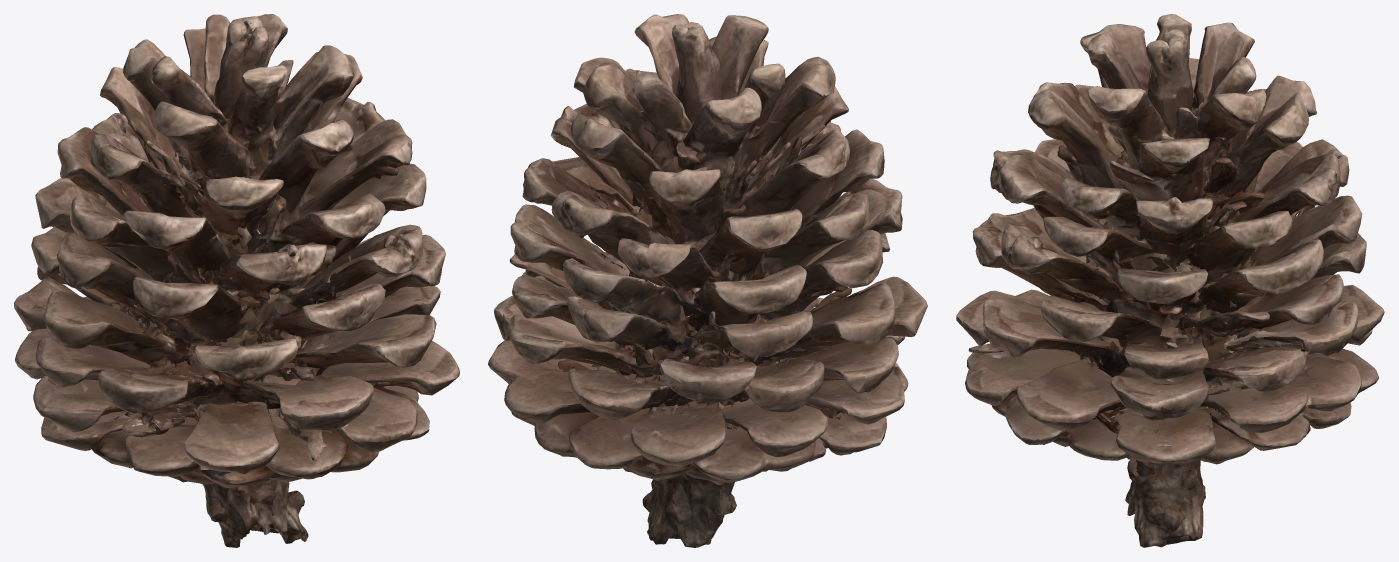
The model's file is pine-cone-v12-lod.glb.
3 views of the same model, side by side, from view 1: azimuth 30°, elevation 25°; view 2: azimuth 150°, elevation 25°; view 3: azimuth 270°, elevation 25° (orthographic). The views are drawn at different scales.
Parts seen in each view (by area): view 1: geometry_0; view 2: geometry_0; view 3: geometry_0.
Boxes of the visible parts, left/top/right/bottom form: geometry_0: left=14, top=14, right=459, bottom=547; geometry_0: left=488, top=14, right=927, bottom=547; geometry_0: left=956, top=14, right=1384, bottom=547.
Size of the model in its own units: 0.1181 by 0.15 by 0.1175.
Materials: 1 (1 with a texture image).
